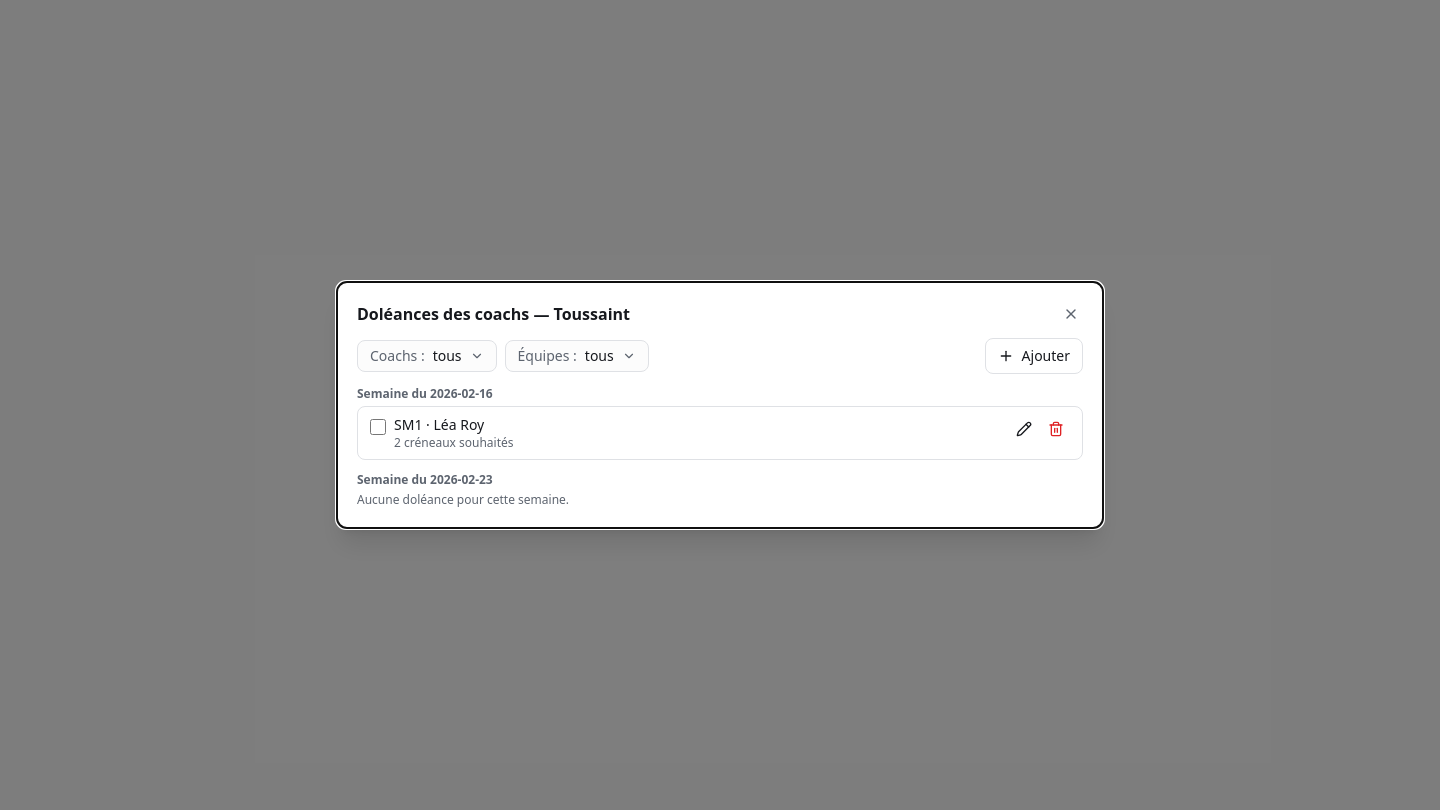
CoachWishesModal › garde le coach d'une doléance existante même s'il n'encadre plus l'équipe
What coordinates should you click on to do the following:
click the button named "Modifier"
I would click on:
 (1024, 429)
Its box is [1010, 415, 1038, 443].
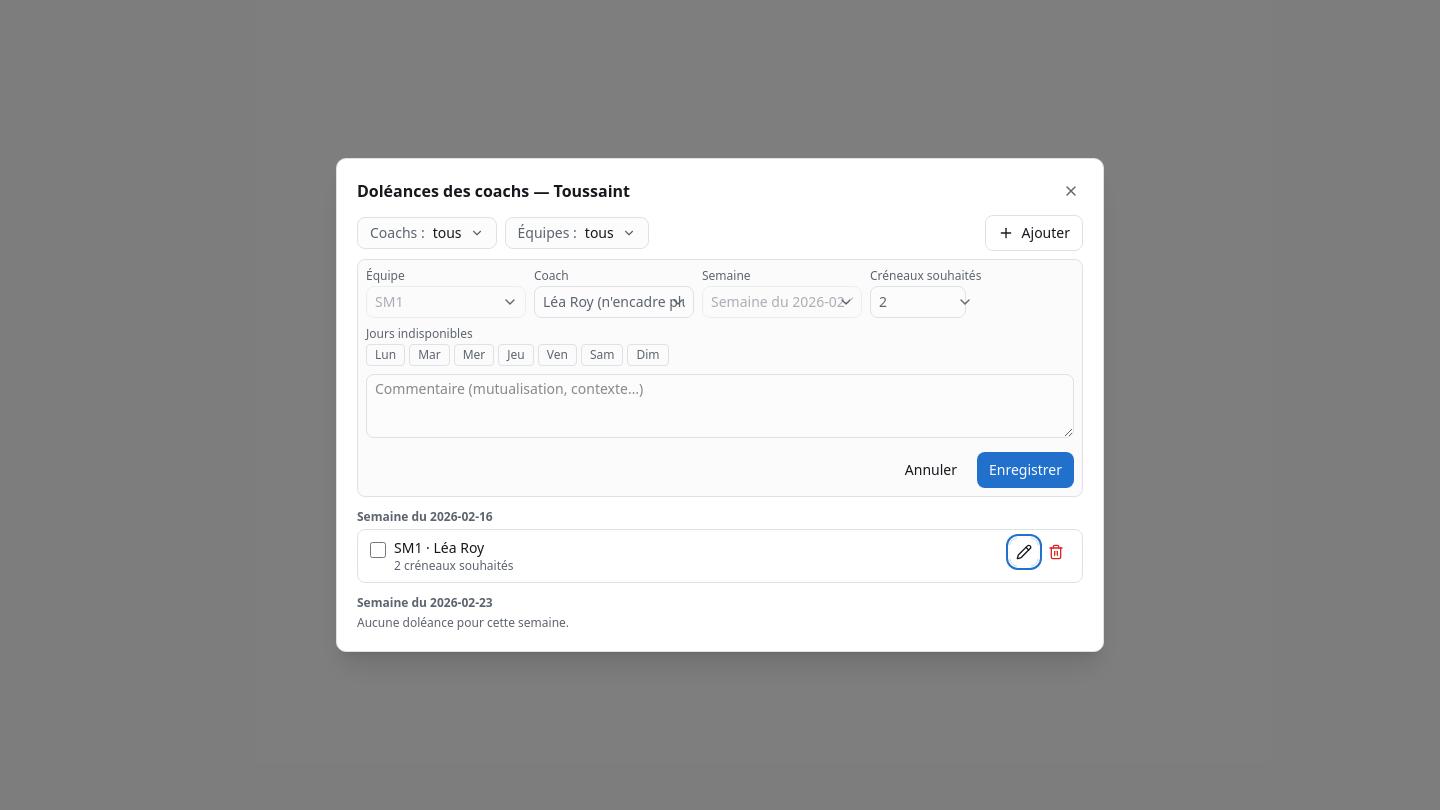
Result: the dropdown labelled "Coach" shows "Léa Roy (n'encadre plus cette équipe)" at [534, 286, 694, 318]
